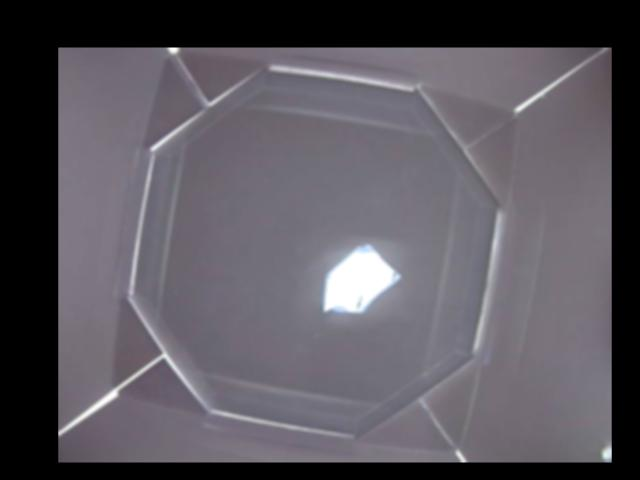China: (322, 242, 400, 315)
